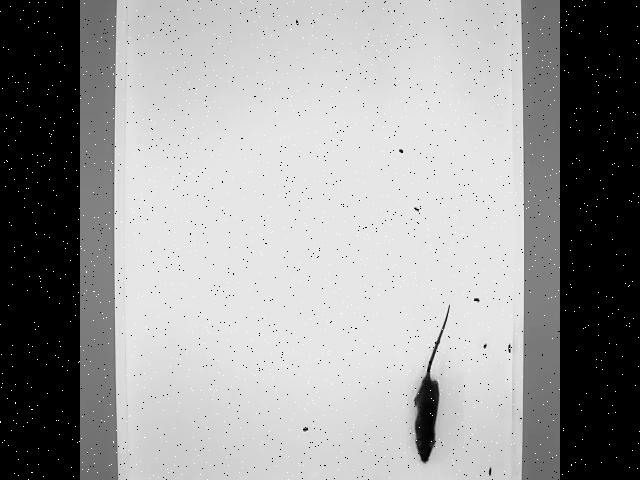Tikus: (409, 300, 455, 466)
